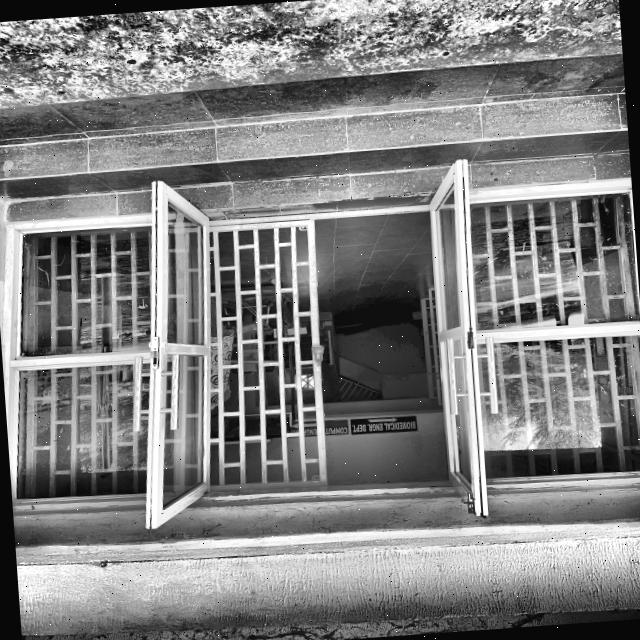door: (0, 158, 640, 557)
